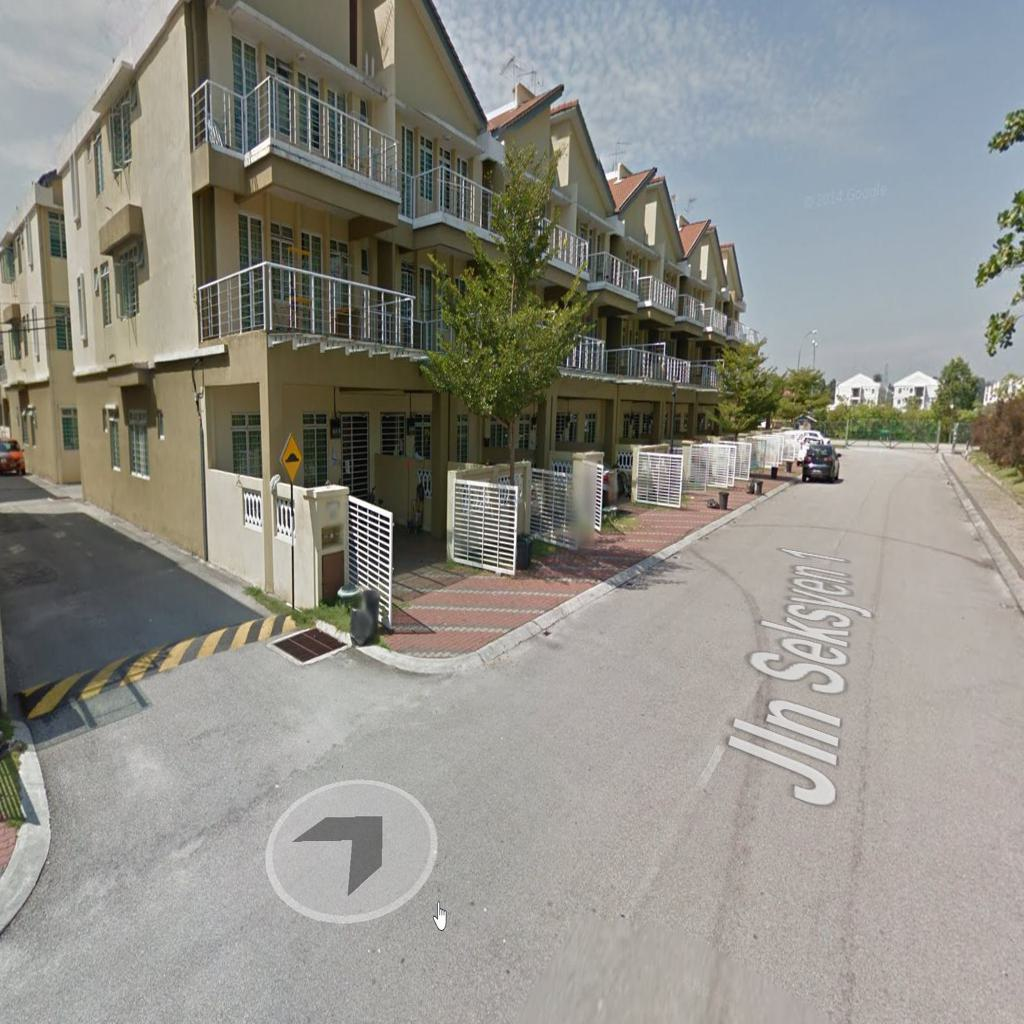Junction: (7, 545, 467, 934)
